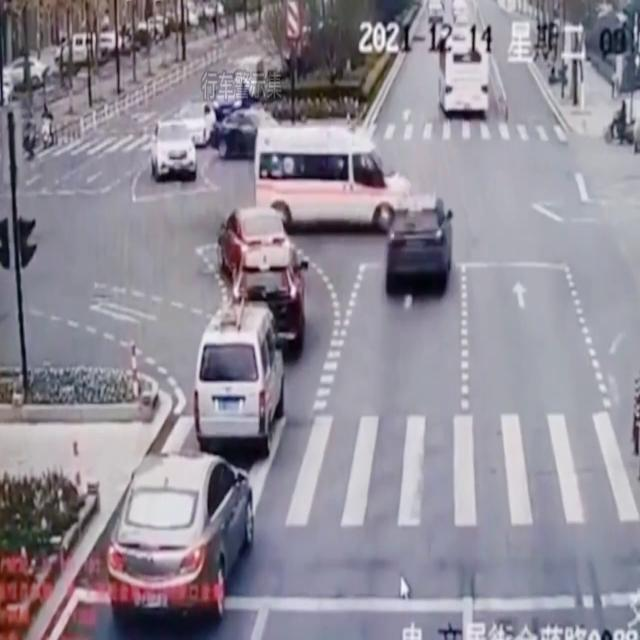normal: (72, 458, 262, 638), (150, 117, 198, 184)
